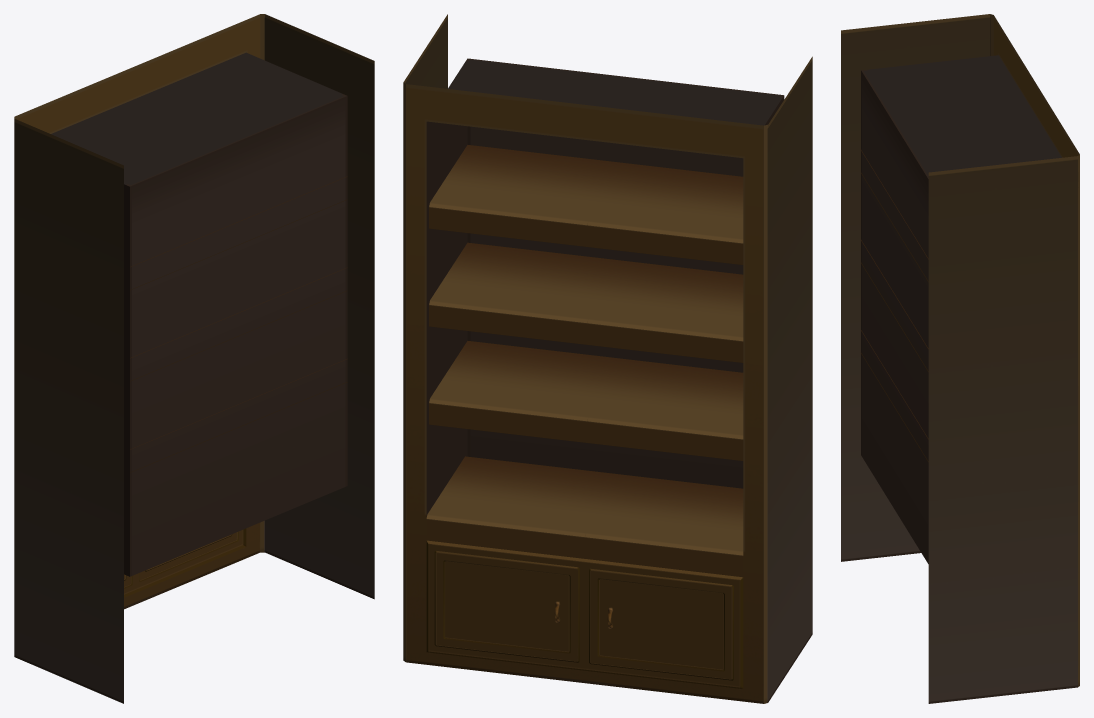
File: jia_guizi02.FBX
The picture shows the model from 3 angles, left to right: view 1: azimuth 30°, elevation 25°; view 2: azimuth 150°, elevation 25°; view 3: azimuth 270°, elevation 25°; orthographic projection. The views are drawn at different scales.
Parts seen in each view (by area): view 1: jia_guizi02; view 2: jia_guizi02; view 3: jia_guizi02.
Boxes of the visible parts, x1,y1,x2,y2 form: jia_guizi02: (14,14,374,703); jia_guizi02: (403,14,812,703); jia_guizi02: (841,14,1079,703).
Bounding box in the file's own units: 179 × 280 × 114.
